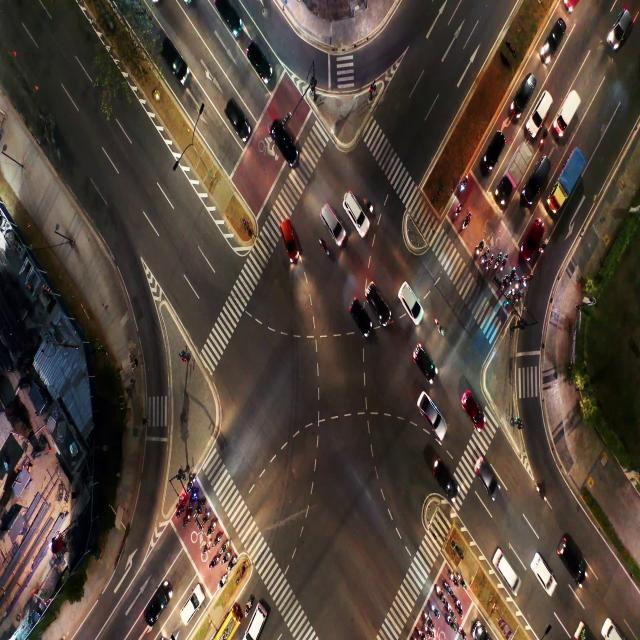bus: (224, 615, 234, 638)
car: (251, 44, 266, 72), (417, 349, 430, 378), (164, 44, 182, 64), (562, 545, 576, 568), (487, 140, 502, 161), (500, 559, 512, 585), (366, 290, 382, 308), (275, 125, 289, 145), (283, 225, 295, 247), (535, 167, 546, 191), (527, 225, 540, 245), (347, 197, 358, 219), (481, 462, 491, 486), (425, 401, 436, 422), (440, 463, 450, 486), (467, 394, 477, 416), (551, 30, 562, 50), (352, 302, 363, 320), (323, 203, 332, 224), (540, 561, 548, 584), (404, 290, 414, 308), (539, 96, 548, 116), (225, 2, 233, 24), (186, 600, 193, 620), (521, 82, 530, 97), (230, 105, 239, 118), (153, 596, 161, 610), (254, 620, 258, 634)
motorcycle: (319, 241, 332, 259), (534, 484, 545, 501), (363, 197, 372, 212), (436, 322, 444, 336), (463, 215, 470, 229), (461, 178, 468, 190), (414, 625, 421, 637), (222, 572, 228, 584), (476, 243, 482, 254), (460, 578, 466, 588), (436, 585, 441, 596), (204, 541, 210, 550), (230, 559, 236, 568), (244, 606, 249, 616), (189, 479, 193, 491), (486, 262, 490, 274), (455, 206, 460, 215), (456, 599, 460, 610), (204, 511, 208, 521), (499, 264, 504, 272), (501, 282, 505, 292), (509, 290, 513, 300), (450, 572, 454, 582), (446, 584, 451, 592), (448, 602, 452, 612), (430, 603, 435, 611), (458, 624, 463, 632), (224, 542, 228, 551), (516, 280, 520, 289), (423, 612, 428, 619), (192, 494, 196, 502), (480, 256, 484, 264), (446, 615, 450, 623), (178, 505, 182, 512), (540, 246, 544, 253), (515, 296, 519, 303), (186, 514, 190, 520), (210, 524, 213, 532), (215, 555, 218, 563), (494, 262, 498, 268), (509, 275, 511, 285), (525, 278, 527, 288), (217, 535, 220, 541), (225, 555, 228, 561), (425, 626, 428, 632), (199, 506, 201, 512)
truck: (565, 165, 579, 195), (512, 155, 524, 182), (564, 92, 576, 116)
